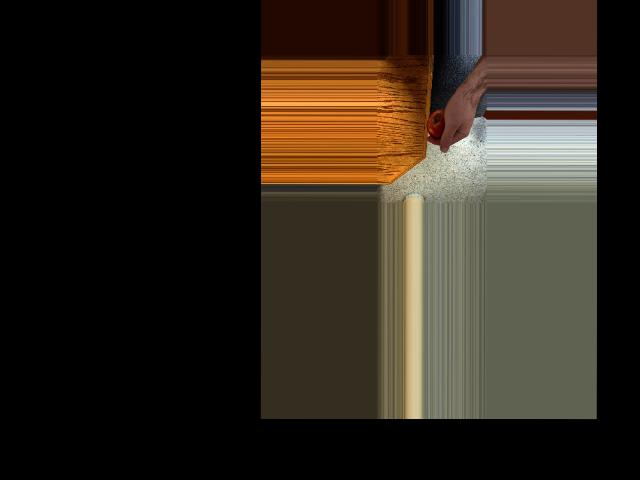apple: (424, 105, 459, 139)
